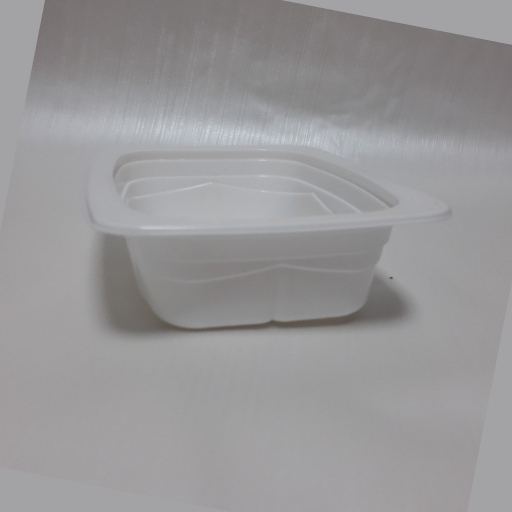Plastic_4: (85, 141, 456, 331)
